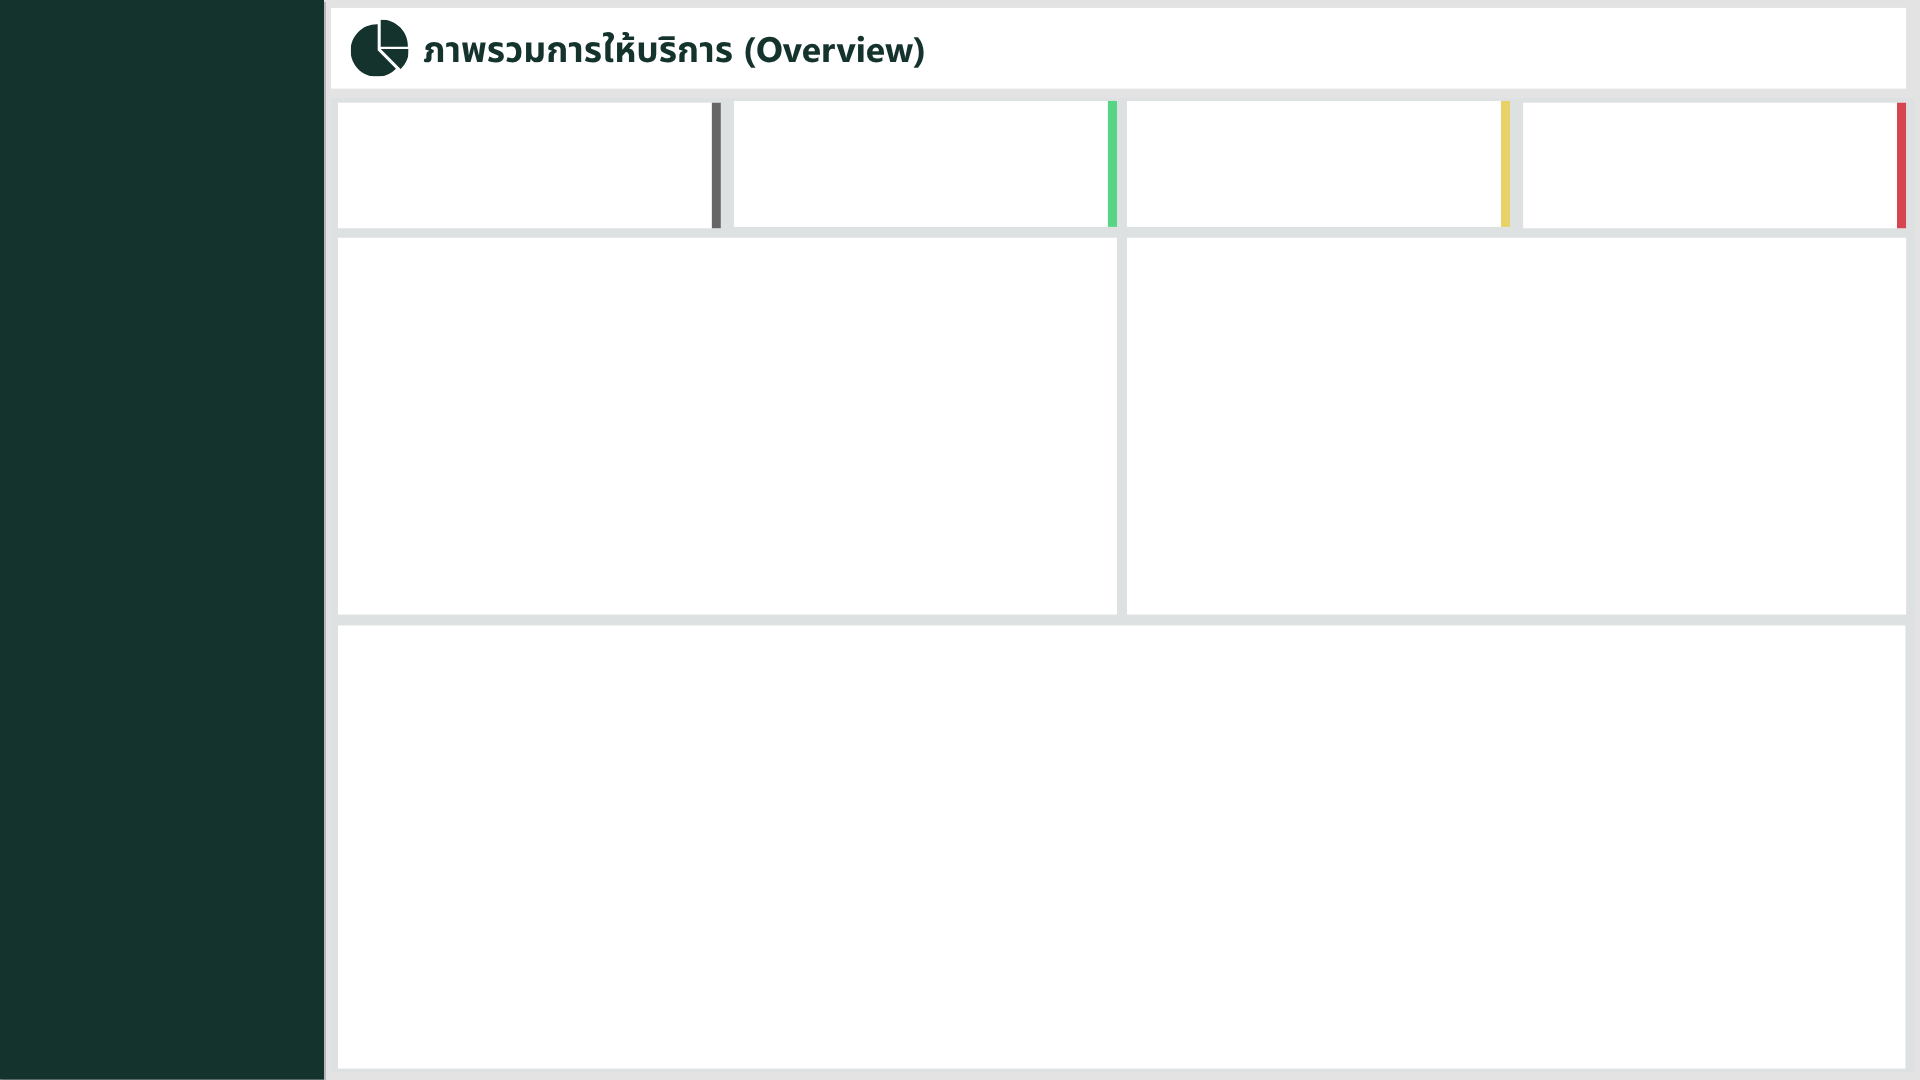

The page's visual inventory and layout, read from the dashboard file:
{"tool":"powerbi","page":{"name":"Overview","canvas":[1920,1080],"ordinal":0},"visuals":[{"type":"cardVisual","fields":{"Data":["DOL.จำนวนรวม"]},"box":[20.4,316.6,459.6,143],"z":0},{"type":"lineChart","title":"จำนวนการเข้าใช้บริการจำแนกตามเดือนและปี","fields":{"Category":["Calendar.Date.Variation.Date Hierarchy.Year","Calendar.Date.Variation.Date Hierarchy.Month"],"Y":["DOL.จำนวนรวม"]},"box":[970.2,627.4,939.6,443.5],"z":1000},{"type":"columnChart","title":"5 อันดับยอดนิยม ของประเภทการให้บริการ","fields":{"Category":["DOL.service_type_name"],"Y":["DOL.จำนวนรวม"]},"box":[970.2,166.3,939.6,443.5],"z":2000},{"type":"cardVisual","fields":{"Data":["DOL.จำนวนรวม"]},"box":[500.4,316.6,459.6,143],"z":3000},{"type":"cardVisual","fields":{"Data":["DOL.จำนวนรวม"]},"box":[20.4,466.9,459.6,143],"z":4000},{"type":"cardVisual","fields":{"Data":["DOL.จำนวนรวม"]},"box":[500.4,466.9,459.6,143],"z":5000},{"type":"clusteredColumnChart","title":"จำนวนการเข้าใช้บริการจำแนกตามวันในสัปดาห์","fields":{"Category":["DOL.วันในสัปดาห์"],"Y":["DOL.จำนวนรวม"]},"box":[20.4,627.4,939.6,443.5],"z":6000},{"type":"slicer","fields":{"Values":["Calendar.Date.Variation.Date Hierarchy.Year"]},"box":[20.4,180.9,939.6,116.7],"z":7000}]}

Visuals, with their boxes on the page's 1920x1080 design canvas (x1, y1, x2, y2). These are canvas units, not pixel positions in the 1920x1080 screenshot, which may show the page scaled, cropped or inside an application window:
cardVisual - DOL.จำนวนรวม: crop(20, 317, 480, 460)
"จำนวนการเข้าใช้บริการจำแนกตามเดือนและปี" lineChart: crop(970, 627, 1910, 1071)
"5 อันดับยอดนิยม ของประเภทการให้บริการ" columnChart: crop(970, 166, 1910, 610)
cardVisual - DOL.จำนวนรวม: crop(500, 317, 960, 460)
cardVisual - DOL.จำนวนรวม: crop(20, 467, 480, 610)
cardVisual - DOL.จำนวนรวม: crop(500, 467, 960, 610)
"จำนวนการเข้าใช้บริการจำแนกตามวันในสัปดาห์" clusteredColumnChart: crop(20, 627, 960, 1071)
slicer - Calendar.Date.Variation.Date Hierarchy.Year: crop(20, 181, 960, 298)
